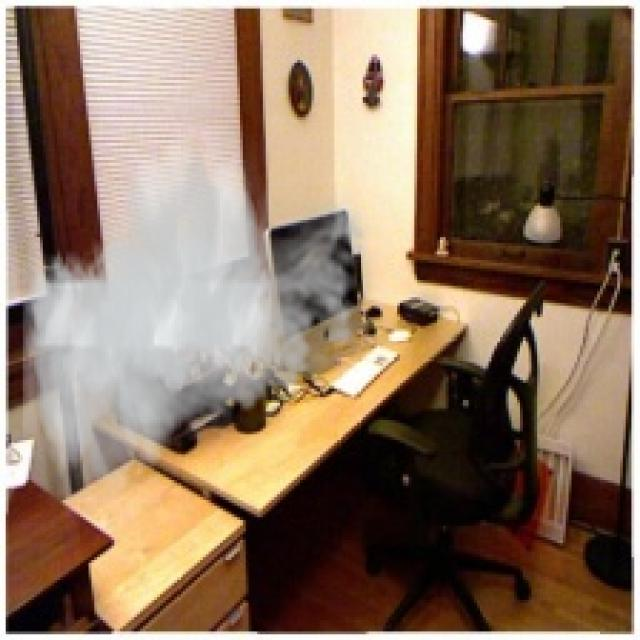smoke: (23, 126, 377, 503)
